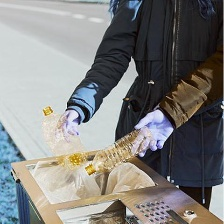bottle: (82, 123, 157, 177), (36, 104, 73, 168), (53, 112, 91, 169)
